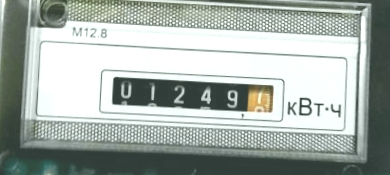0: (118, 79, 133, 99)
1: (145, 80, 158, 102)
2: (170, 82, 187, 105)
4: (199, 84, 213, 105)
7: (253, 84, 267, 105)
9: (225, 87, 239, 109)
screen: (95, 64, 289, 125)
